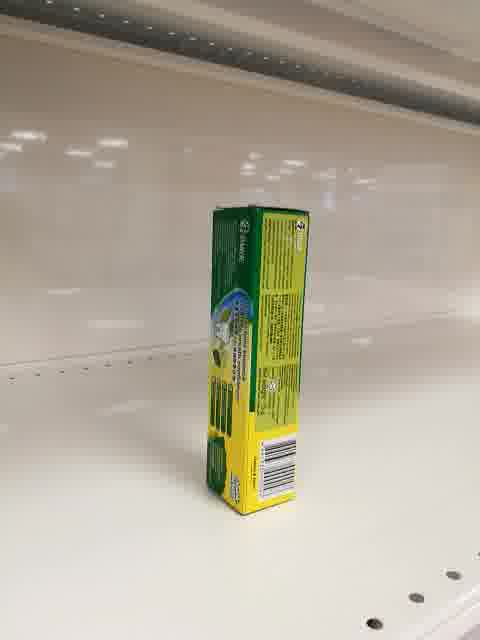toothpaste: (205, 205, 311, 517)
